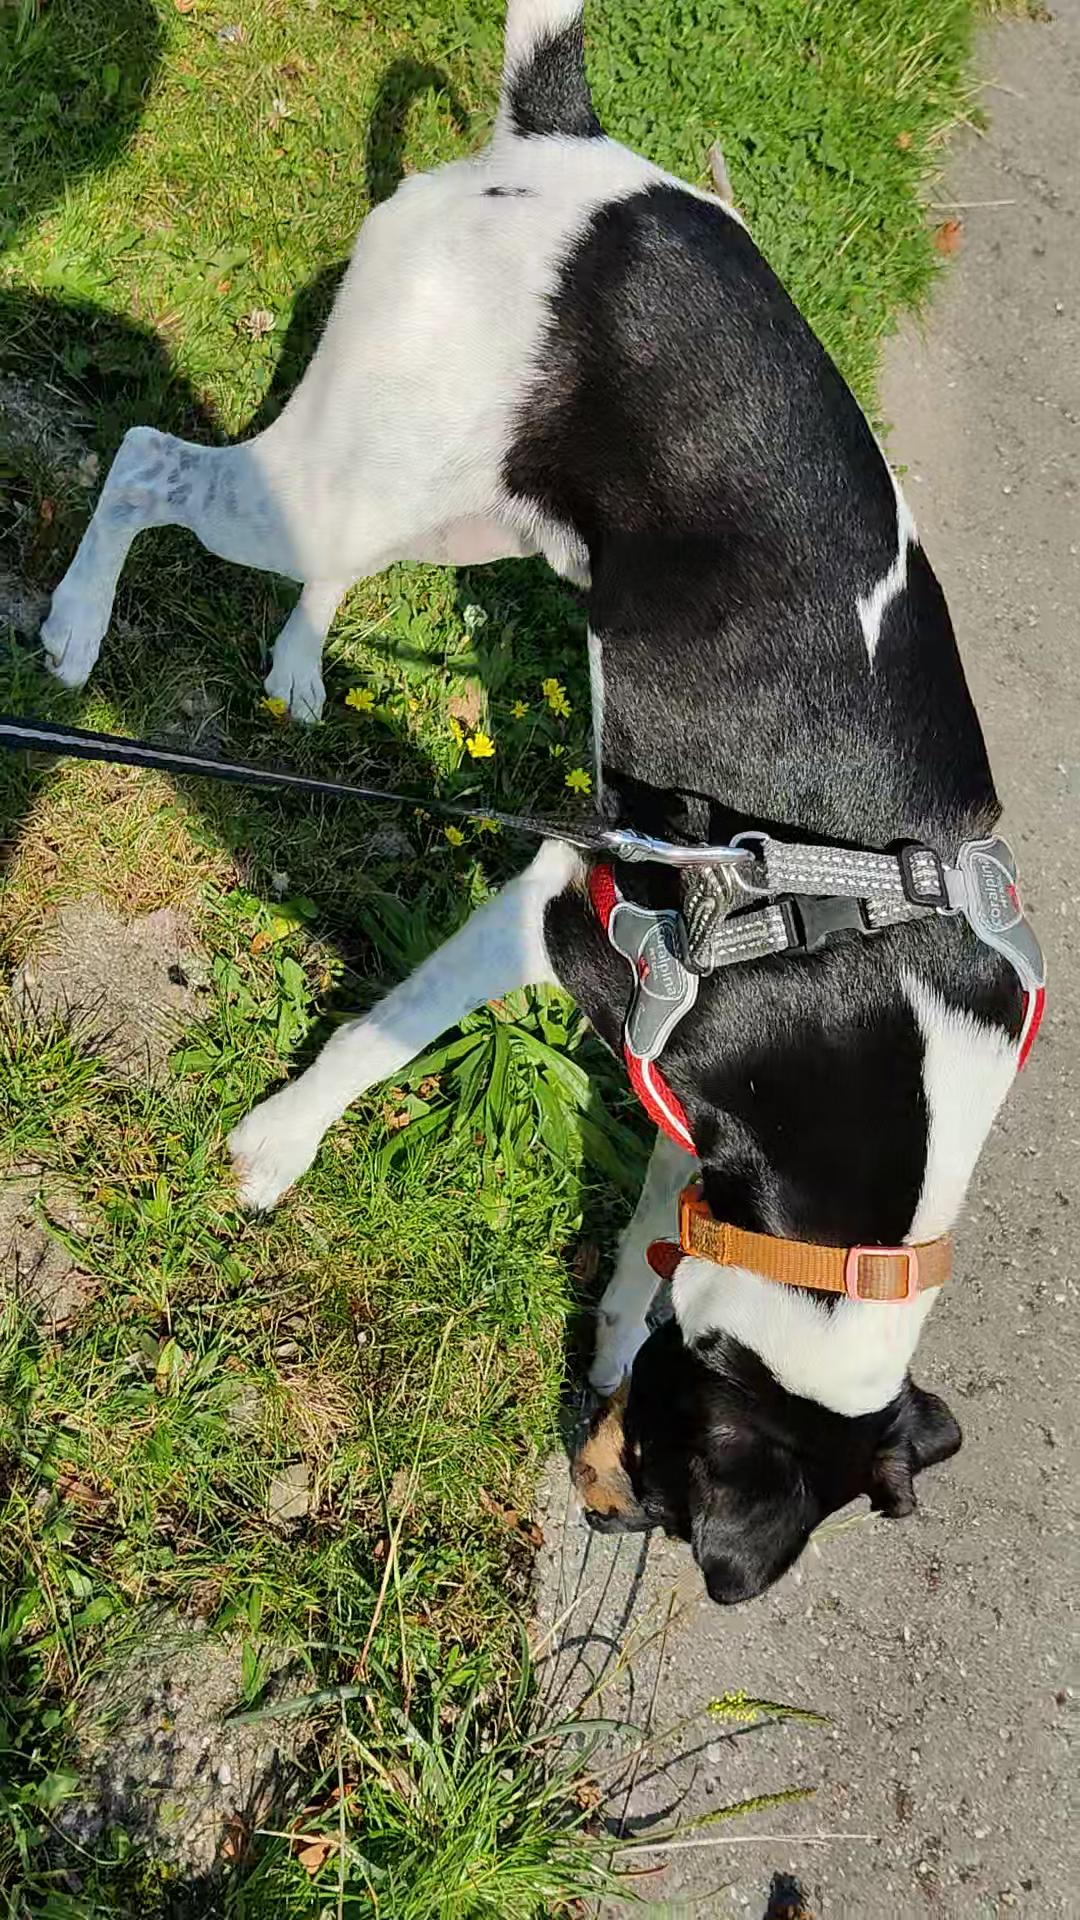Dog: (30, 0, 1054, 1619)
